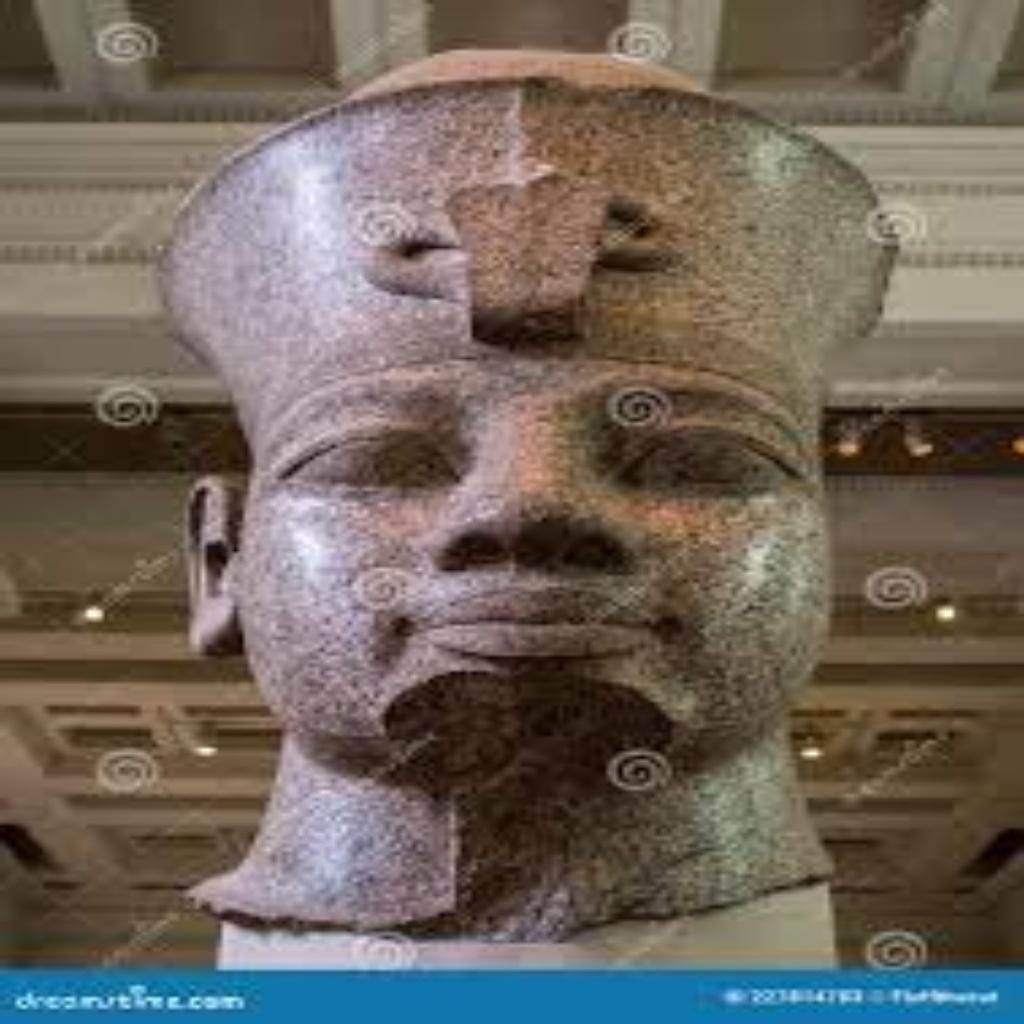Head Statue of Amenhotep iii: (146, 42, 905, 947)
